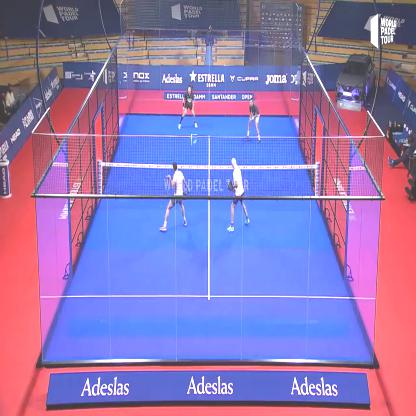ball: (191, 134, 198, 147)
